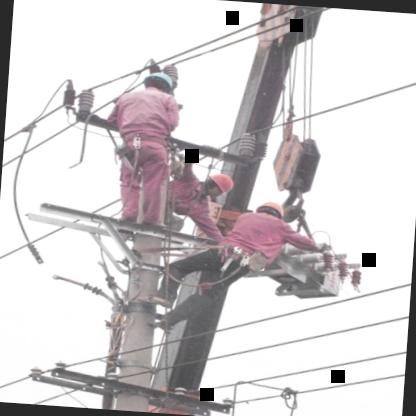helmet: (138, 67, 178, 99), (197, 171, 236, 199), (254, 199, 288, 224)
